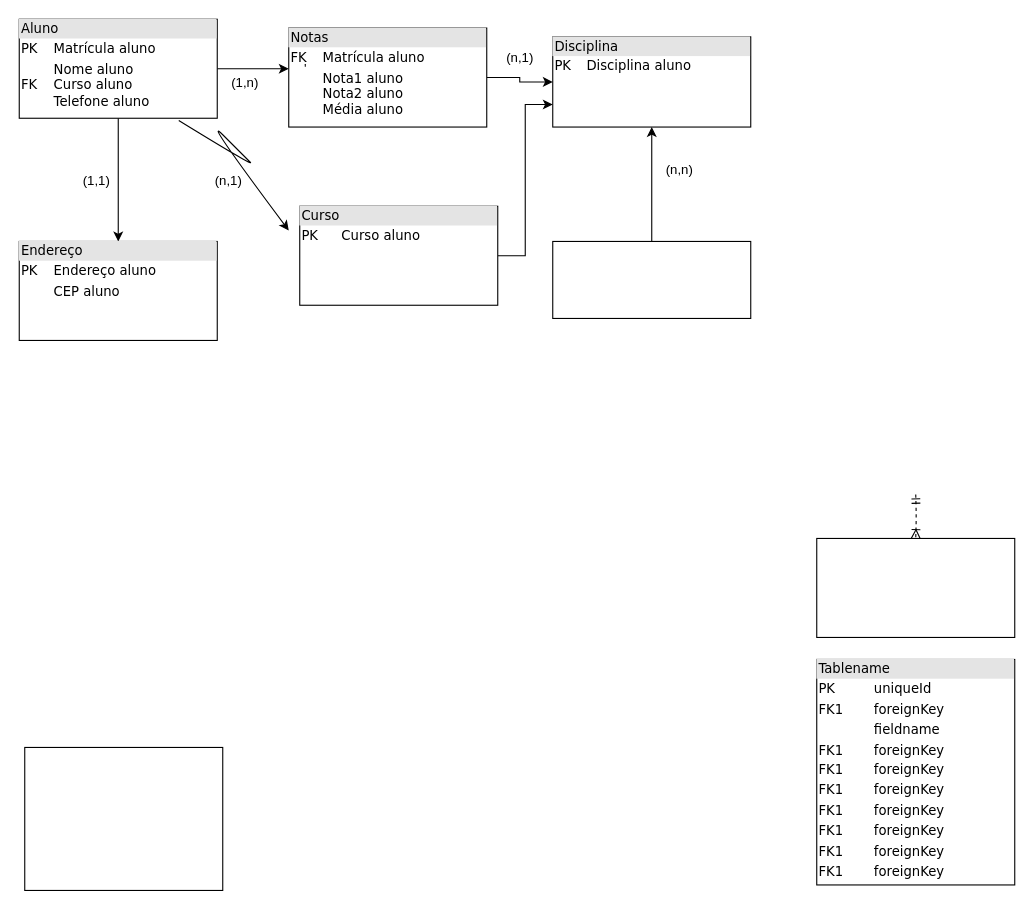
Some shapes in this 1034 by 910 pixel diagram are drawn without their labels. The shapes that lost their labels are listed below. From the top down, each one's centre as x and y in pixels, then its label:
point 651,279: Turma PK Turma aluno
point 915,587: Tablename PK uniqueId FK1 foreignKey fieldname
point 123,818: Tablename PK uniqueId FK1 foreignKey fieldname fieldname fieldname fieldname
